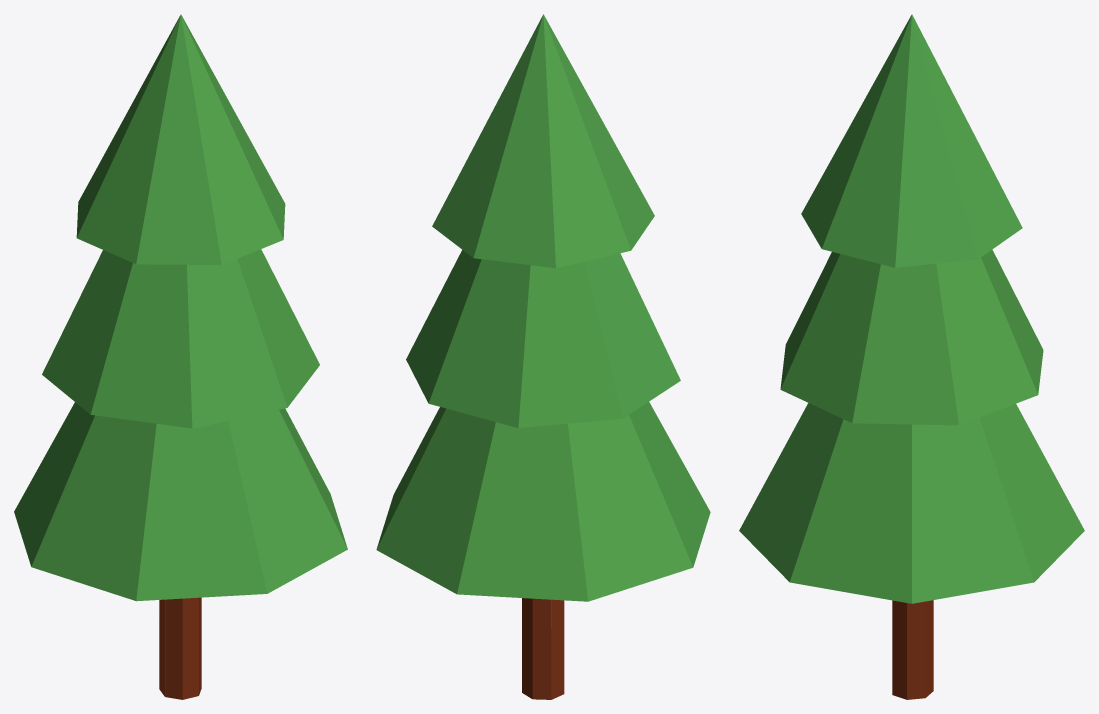
Rendered from friTree.glb.
3 views of the same model, side by side, from view 1: azimuth 30°, elevation 25°; view 2: azimuth 150°, elevation 25°; view 3: azimuth 270°, elevation 25° (orthographic).
Visible parts, largest first — view 1: Cylinder.002; view 2: Cylinder.002; view 3: Cylinder.002.
Boxes of the visible parts, left/top/right/bottom form: Cylinder.002: left=14, top=14, right=347, bottom=699; Cylinder.002: left=376, top=14, right=710, bottom=699; Cylinder.002: left=739, top=14, right=1084, bottom=699.
Bounding box in the file's own units: 1.09 × 2.35 × 1.09.
Materials: 1 (1 with a texture image).
